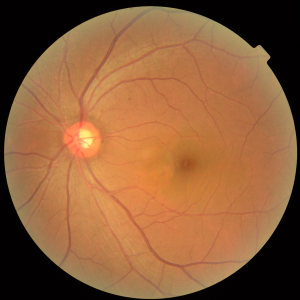healthy_eye: (31, 91, 255, 209)
